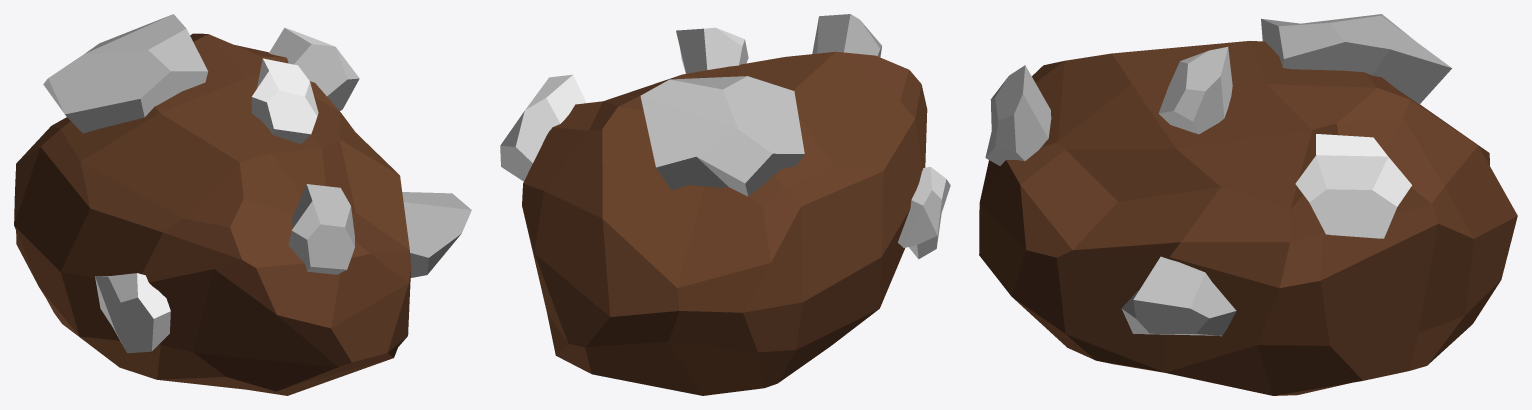
The model's file is MineralNode_05_A.fbx.
The picture shows the model from 3 angles, left to right: view 1: azimuth 30°, elevation 25°; view 2: azimuth 150°, elevation 25°; view 3: azimuth 270°, elevation 25°; orthographic projection. The views are drawn at different scales.
Visible parts, largest first — view 1: MineralNode_05_A; view 2: MineralNode_05_A; view 3: MineralNode_05_A.
Boxes of the visible parts, box(x1,y1,x2,y2) form: MineralNode_05_A: box(14, 14, 471, 395); MineralNode_05_A: box(500, 14, 950, 395); MineralNode_05_A: box(979, 14, 1517, 395).
Bounding box in the file's own units: 85.56 × 66.36 × 103.
